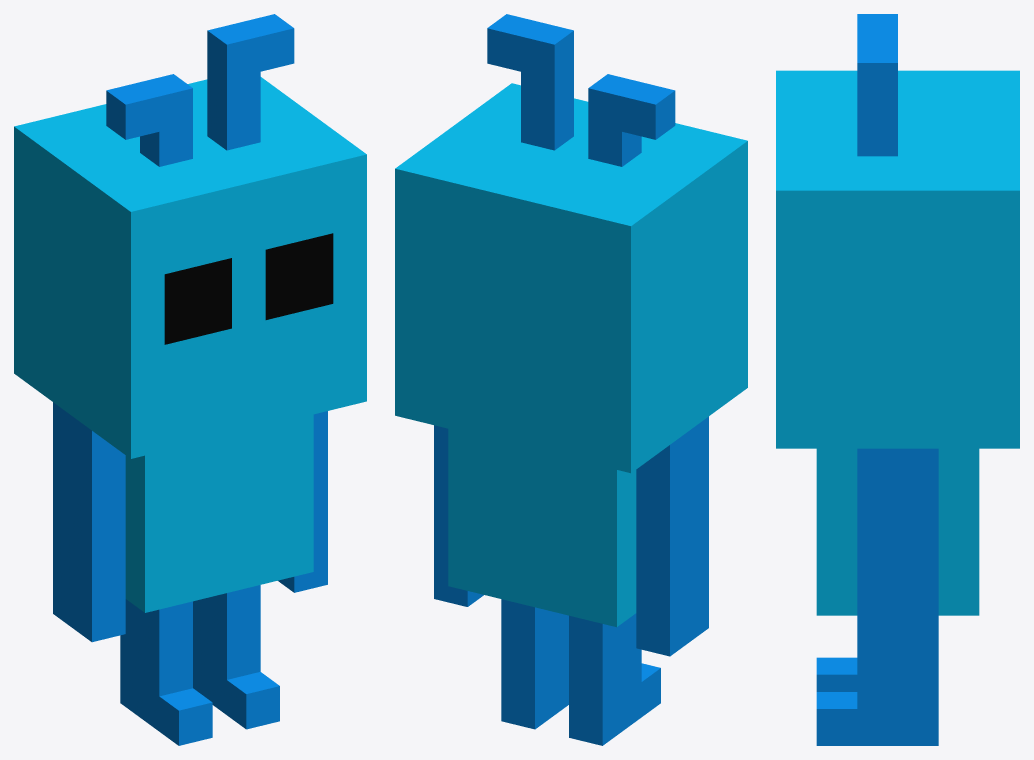
File: alien_walk-02.obj
3 renders of one model, left to right at view 1: azimuth 30°, elevation 25°; view 2: azimuth 150°, elevation 25°; view 3: azimuth 270°, elevation 25°, orthographic. The views are drawn at different scales.
Size of the model in its own units: 7 by 19 by 6.
Materials: 1 (1 with a texture image).
